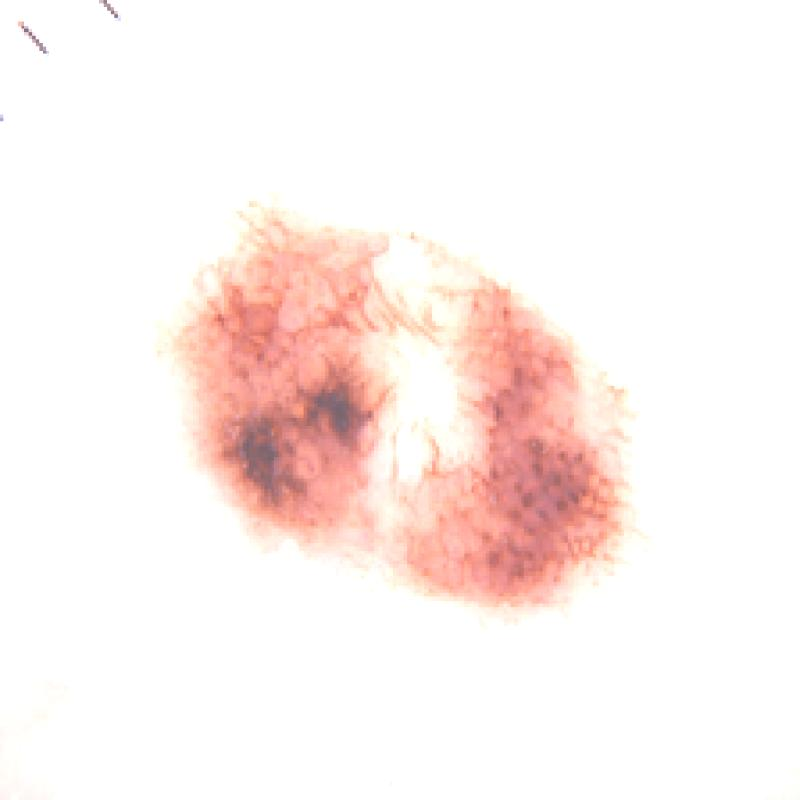benign: (140, 162, 645, 638)
